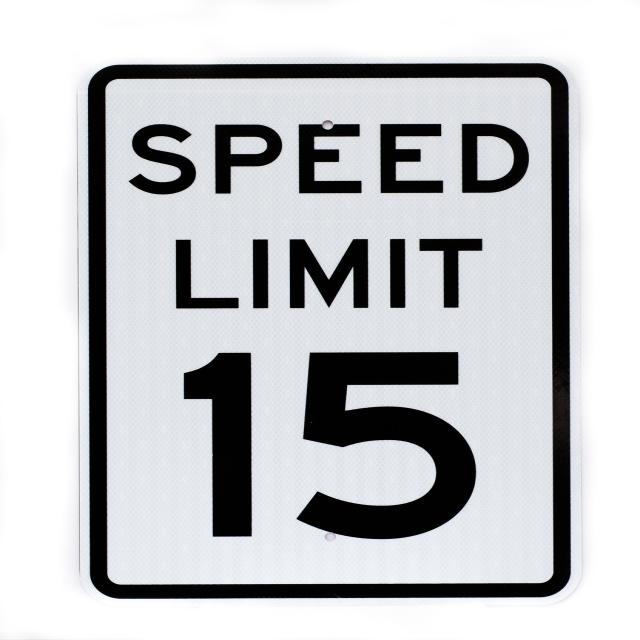speedLimit15: (80, 56, 582, 608)
